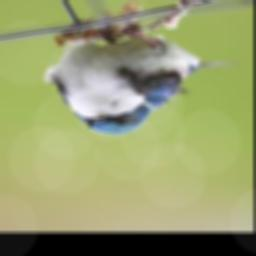Swallow: (41, 22, 243, 135)
